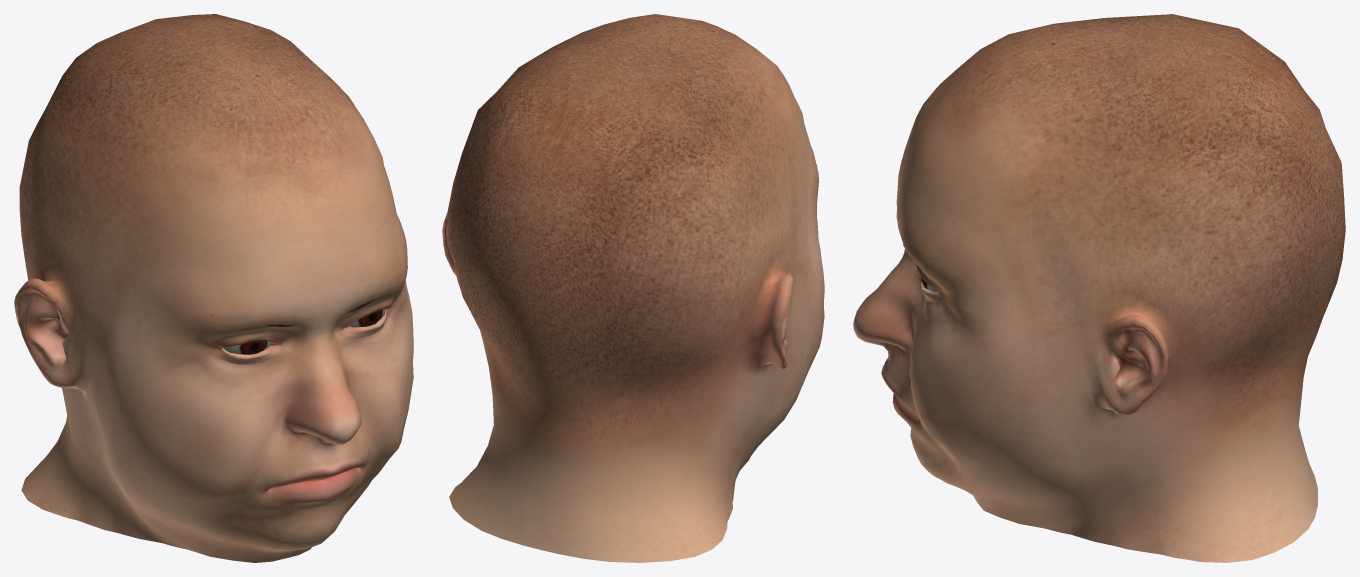
Rendered from head_2_sub5.fbx.
3 views of the same model, side by side, from view 1: azimuth 30°, elevation 25°; view 2: azimuth 150°, elevation 25°; view 3: azimuth 270°, elevation 25° (orthographic). The views are drawn at different scales.
Parts seen in each view (by area): view 1: head_2_sub5; view 2: head_2_sub5; view 3: head_2_sub5.
Part boxes in pixels (box(x1,y1,x2,y2)): head_2_sub5: box(14, 14, 413, 562); head_2_sub5: box(442, 14, 824, 562); head_2_sub5: box(853, 14, 1345, 562).
Size of the model in its own units: 81.77 by 100 by 95.89.
Materials: 1 (1 with a texture image).
